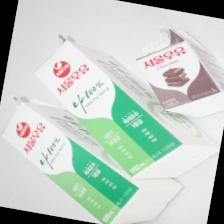milk: (16, 33, 224, 191), (0, 92, 195, 224)
